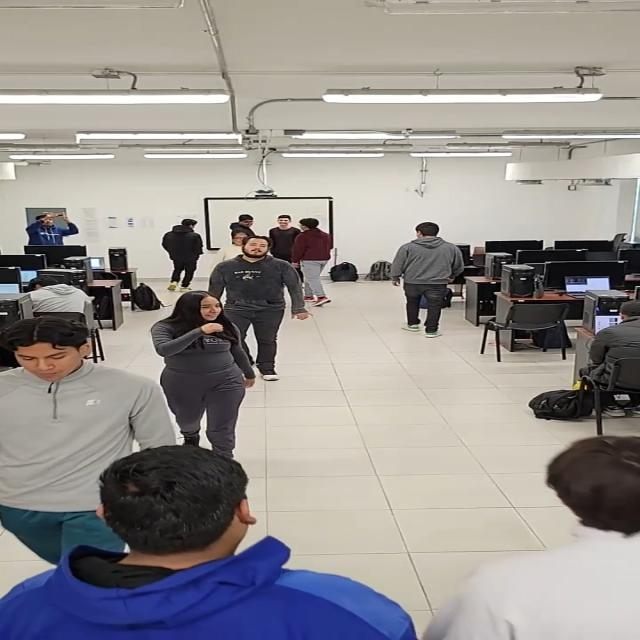Persona: (0, 447, 422, 639), (436, 435, 640, 640), (1, 312, 120, 548), (148, 289, 252, 455), (217, 234, 284, 386), (391, 220, 465, 339), (290, 211, 342, 308), (161, 214, 202, 290)
